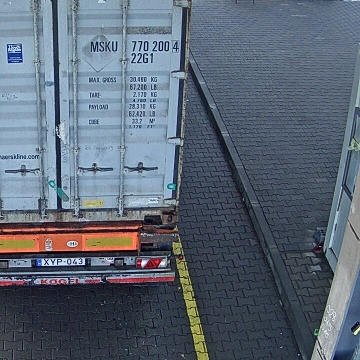serial_id: (90, 41, 178, 52)
